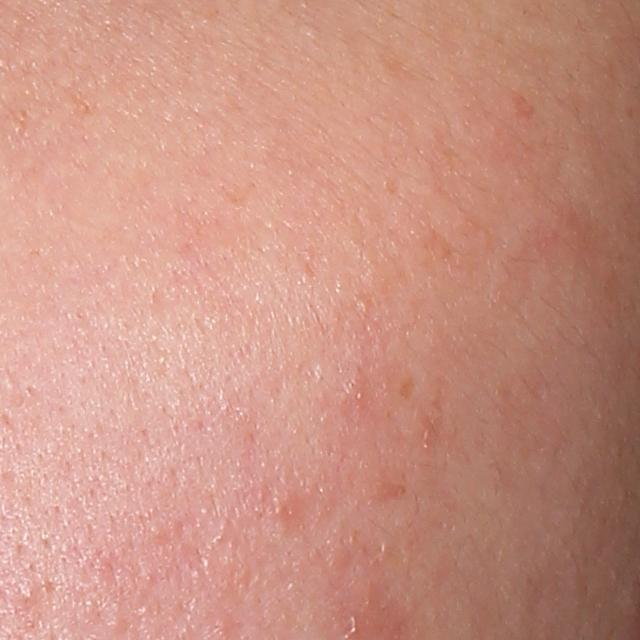comedo: (20, 585, 39, 605)
